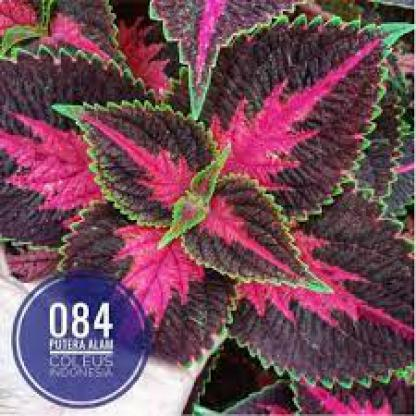Bunga Coleus: (18, 12, 415, 293)
